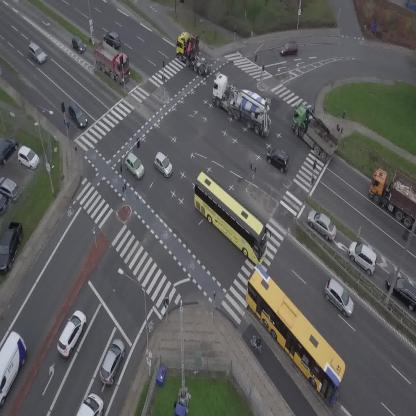bicycle: (254, 335, 261, 353)
bus: (227, 262, 361, 407), (179, 169, 282, 267)
car: (52, 308, 91, 358), (318, 277, 361, 319), (96, 336, 130, 387), (343, 237, 385, 277), (302, 206, 342, 244), (262, 143, 295, 174), (63, 101, 91, 130), (121, 152, 149, 180), (149, 151, 178, 178), (24, 40, 49, 65), (101, 28, 124, 49), (67, 33, 88, 55), (279, 41, 298, 55)
lorry: (201, 71, 284, 140), (282, 101, 345, 163), (85, 36, 139, 87), (0, 330, 35, 405), (169, 26, 214, 82), (77, 393, 104, 416)
